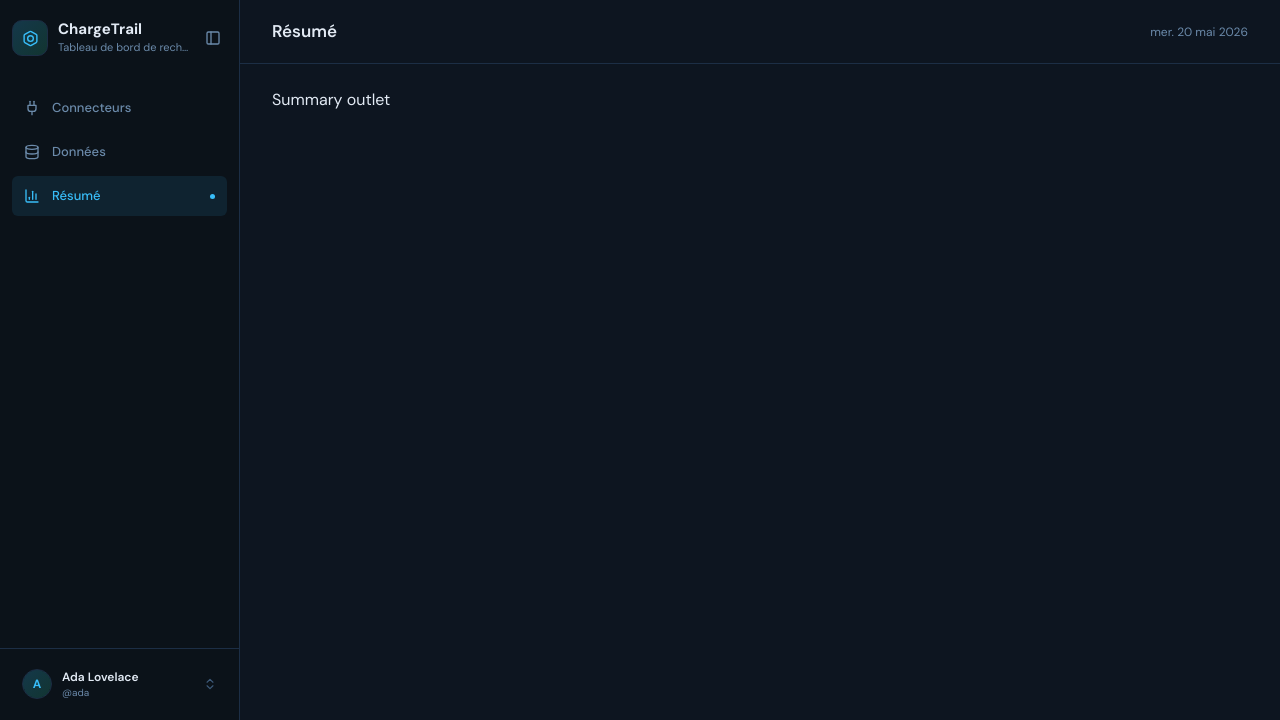
Test case: AppShell › renders translated navigation and account menu labels
Expected: the heading "Résumé" is shown, [272,19,337,44]
What coordinates should you click on to do the following:
click the button with aria-label "ouvrir le menu du compte"
I would click on:
 (120, 684)
Its box is [12,661,227,708].
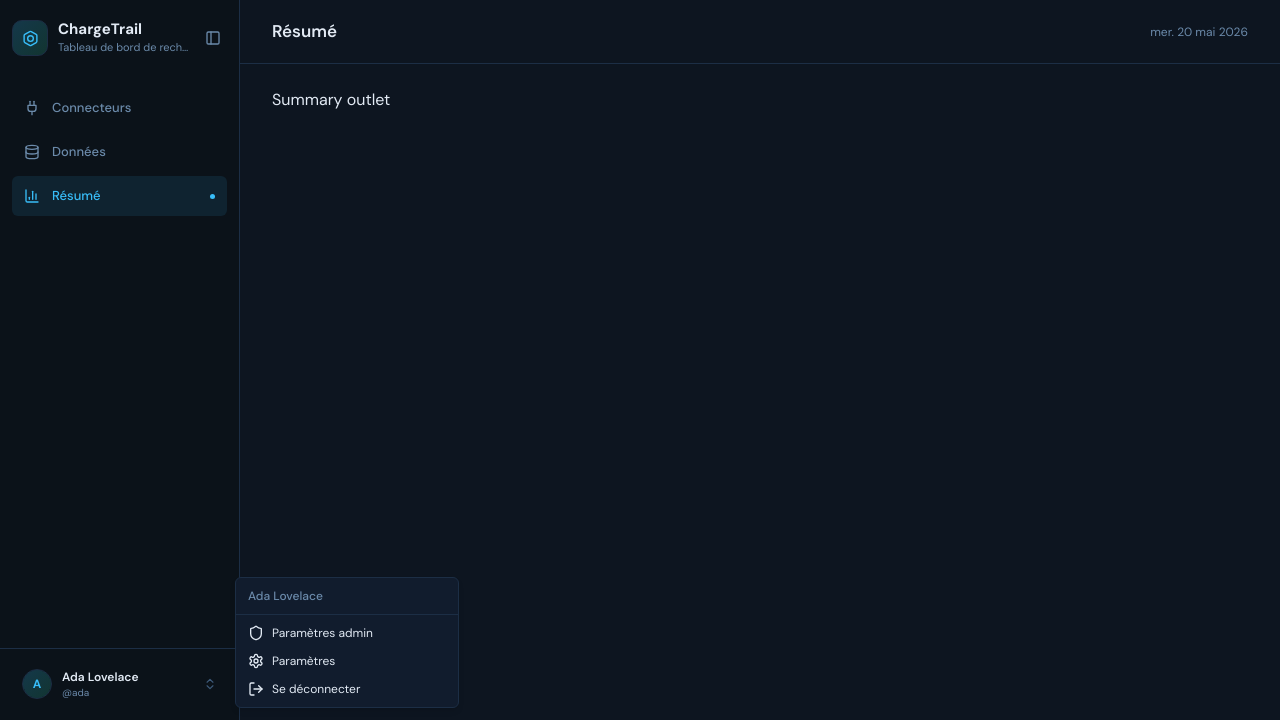
Result: the menu item "Paramètres admin" is shown at [248,625,373,641]
Result: the menu item "Se déconnecter" is shown at [248,681,360,697]
